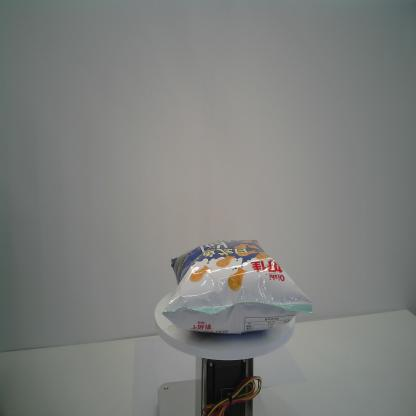Puffed Food: (162, 239, 314, 335)
